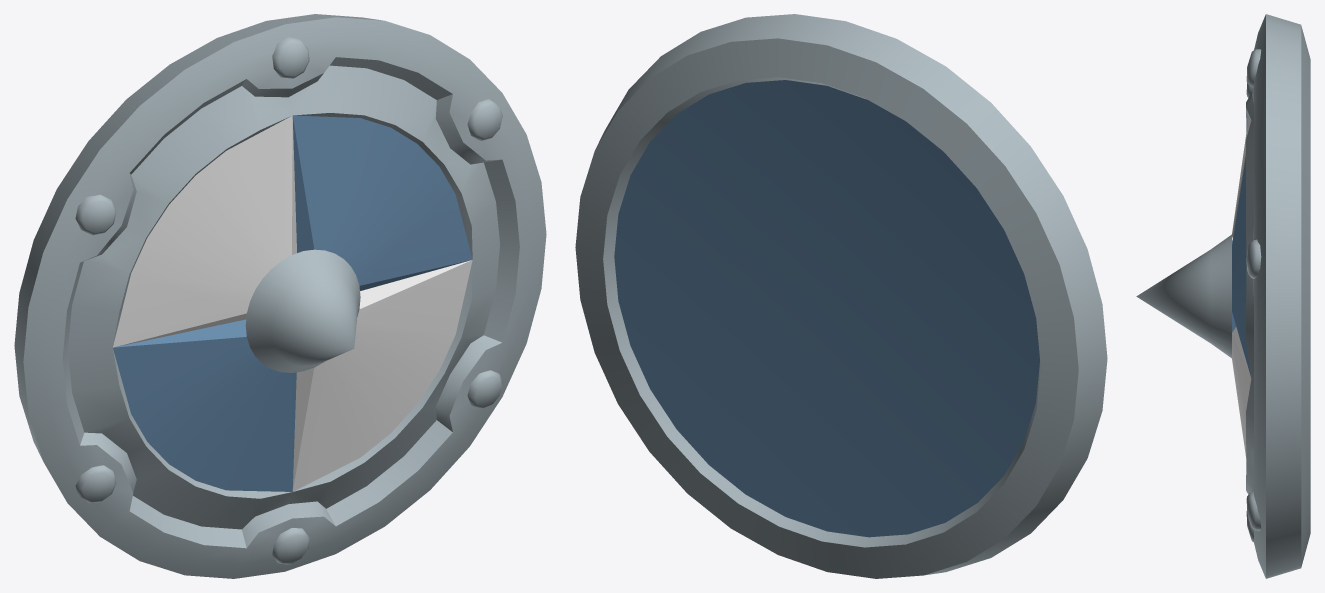
Rendered from vikingShieldA.gltf.glb.
3 views of the same model, side by side, from view 1: azimuth 30°, elevation 25°; view 2: azimuth 150°, elevation 25°; view 3: azimuth 270°, elevation 25° (orthographic). The views are drawn at different scales.
Visible parts, largest first — view 1: vikingShieldA; view 2: vikingShieldA; view 3: vikingShieldA.
Part boxes in pixels (x1=…): vikingShieldA: x1=14, y1=14, x2=546, y2=578; vikingShieldA: x1=575, y1=14, x2=1107, y2=578; vikingShieldA: x1=1136, y1=14, x2=1310, y2=578.
Size of the model in its own units: 0.7555 by 0.7555 by 0.2332.
